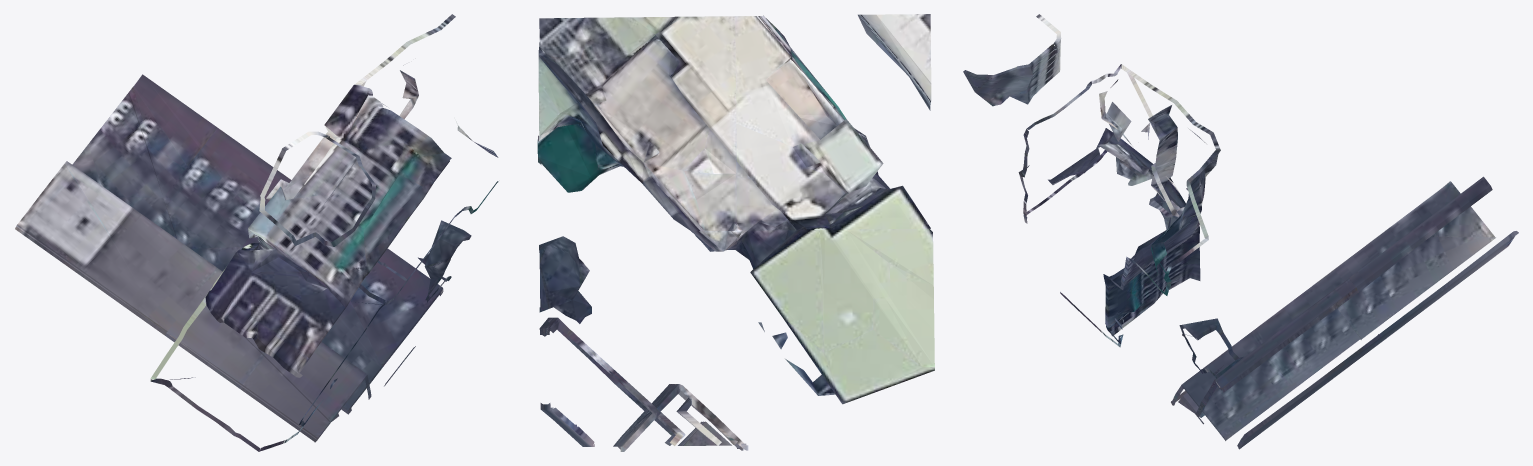
The picture shows the model from 3 angles, left to right: view 1: azimuth 30°, elevation 25°; view 2: azimuth 150°, elevation 25°; view 3: azimuth 270°, elevation 25°; orthographic projection. The views are drawn at different scales.
Bounding box in the file's own units: 40.26 × 40.12 × 58.22.
1 material, 1 textured.
